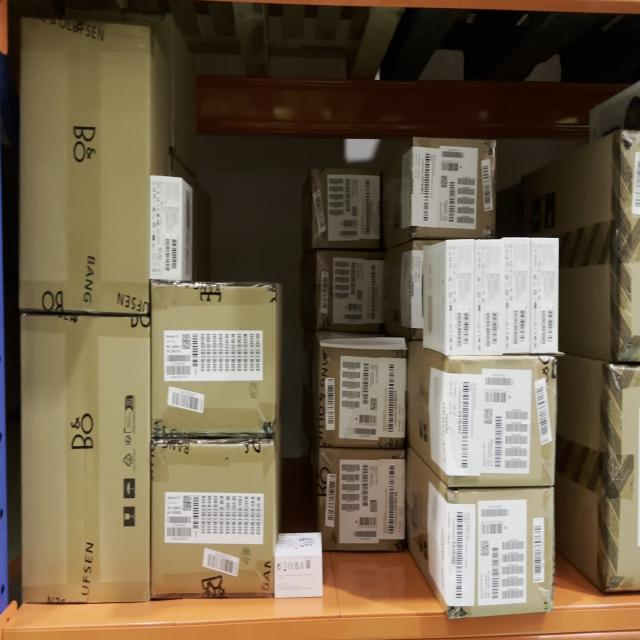box: (20, 16, 150, 311), (21, 310, 153, 597), (153, 437, 275, 600), (151, 283, 273, 437), (448, 364, 559, 488), (449, 491, 554, 614), (322, 342, 412, 453), (323, 448, 410, 548), (412, 142, 498, 231), (317, 247, 392, 329), (312, 169, 383, 244)
